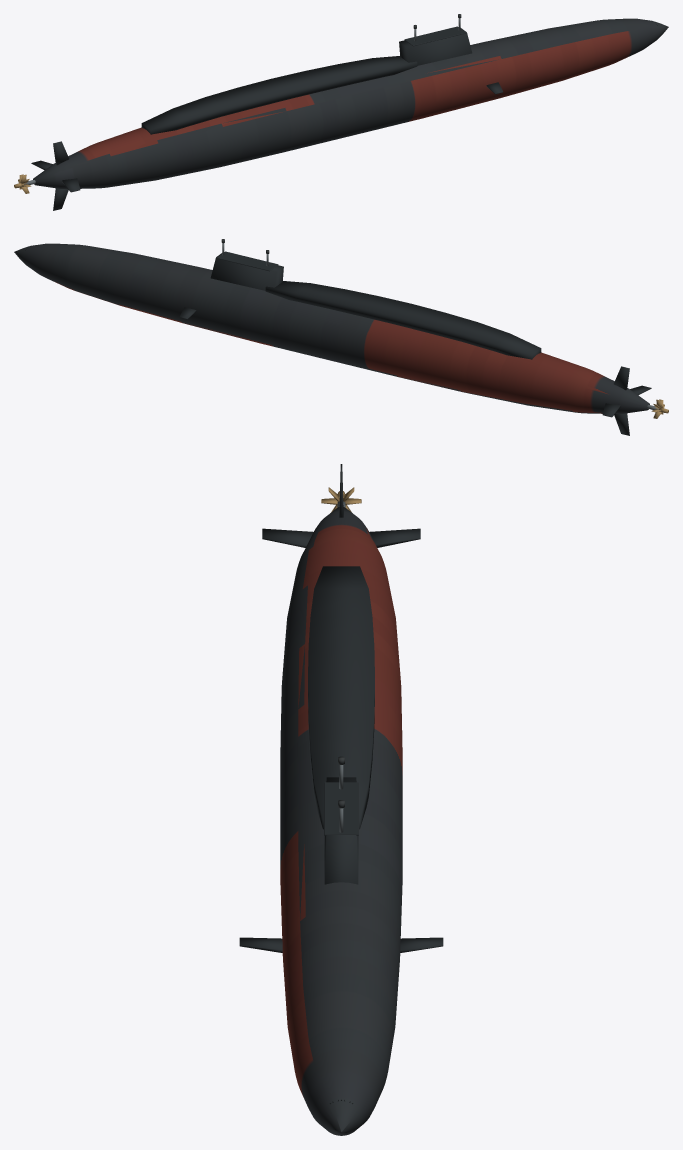
Rendered from CN_SSBN_Type092_LOD2.fbx.
The picture shows the model from 3 angles, top to bottom: view 1: azimuth 30°, elevation 25°; view 2: azimuth 150°, elevation 25°; view 3: azimuth 270°, elevation 25°; orthographic projection. The views are drawn at different scales.
Parts seen in each view (by area): view 1: CN_SSBN_Type092_LOD2; view 2: CN_SSBN_Type092_LOD2; view 3: CN_SSBN_Type092_LOD2.
Boxes of the visible parts, left/top/right/bottom form: CN_SSBN_Type092_LOD2: left=14, top=14, right=668, bottom=210; CN_SSBN_Type092_LOD2: left=14, top=239, right=668, bottom=435; CN_SSBN_Type092_LOD2: left=239, top=464, right=443, bottom=1135.
Size of the model in its own units: 124 by 16.71 by 17.53.
Materials: 6 (1 with a texture image).
